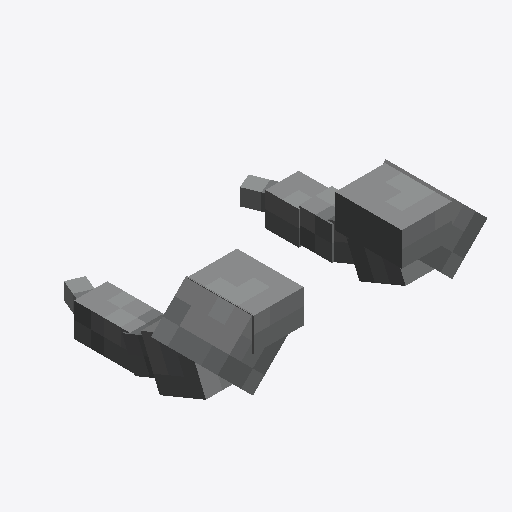
Isometric view (azimuth 45°, elevation 35.3°) of a Minecraft model made of 14 cuboids, textured from the same repository.
Visible parts, largest first — element 7, element 11, element 14, element 9, element 5, element 4, element 12, element 6, element 13, element 2, element 8, element 3 (+1 smaller).
Boxes of the visible parts, <box> form: element 7: <box>335,163,451,268</box>; element 11: <box>151,276,287,394</box>; element 14: <box>187,249,303,353</box>; element 9: <box>141,319,231,399</box>; element 5: <box>265,171,327,247</box>; element 4: <box>383,159,486,278</box>; element 12: <box>74,281,136,355</box>; element 6: <box>299,186,337,262</box>; element 13: <box>104,299,163,372</box>; element 2: <box>346,237,433,285</box>; element 8: <box>122,315,162,377</box>; element 3: <box>240,175,277,211</box>.
Size of the model in its own units: 16.22 by 5.89 by 11.8.